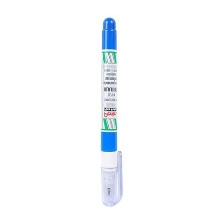correction_fluid: (98, 15, 124, 209)
